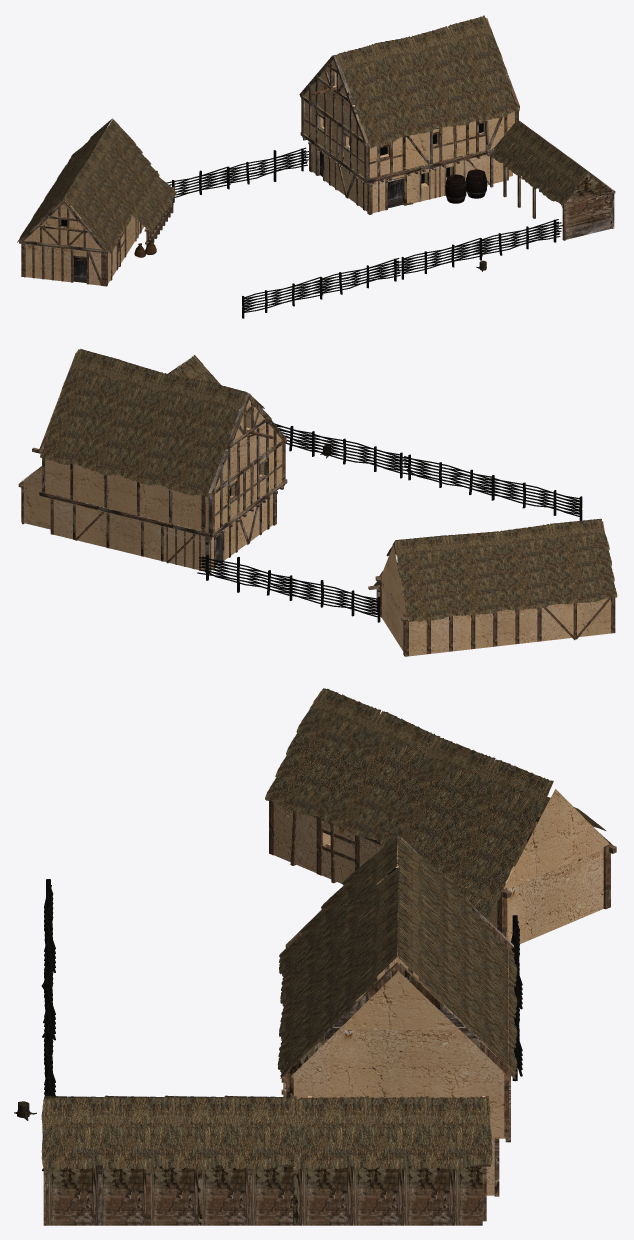
File: thatchhouses.obj
3 renders of one model, top to bottom at view 1: azimuth 30°, elevation 25°; view 2: azimuth 150°, elevation 25°; view 3: azimuth 270°, elevation 25°, orthographic. The views are drawn at different scales.
Visible parts, largest first — view 1: Rectangle016, Box002, Rectangle017, Box224, Box085, Object037, Object008, Object005, Object006, Object007, Box100, Cylinder109 (+2 smaller); view 2: Rectangle016, Rectangle017, Box002, Box224, Box038, Box199, Object007, Box003; view 3: Rectangle017, Rectangle016, Box087, Box002, Box224, Object020, Object032, Object030, Object018, Object017, Object029, Object019 (+3 smaller).
Part boxes in pixels (box(x1,y1,x2,y2)): Rectangle016: box(336, 15, 519, 148); Box002: box(304, 60, 514, 212); Rectangle017: box(17, 118, 159, 253); Box224: box(25, 127, 143, 285); Box085: box(566, 173, 612, 239); Object037: box(132, 177, 175, 229); Object008: box(490, 121, 534, 165); Object005: box(504, 134, 552, 178); Object006: box(521, 147, 570, 190); Object007: box(539, 159, 587, 203); Box100: box(368, 148, 495, 183); Cylinder109: box(445, 174, 466, 203); Rectangle016: box(40, 348, 271, 497); Rectangle017: box(379, 518, 617, 621); Box002: box(45, 400, 282, 569); Box224: box(381, 545, 613, 656); Box038: box(23, 467, 50, 529); Box199: box(39, 490, 209, 537); Object007: box(175, 355, 220, 384); Box003: box(208, 394, 249, 494); Rectangle017: box(265, 688, 612, 896); Rectangle016: box(277, 837, 517, 1079); Box087: box(48, 1166, 482, 1225); Box002: box(291, 845, 504, 1195); Box224: box(274, 789, 608, 943); Object020: box(41, 1096, 120, 1167); Object032: box(294, 1096, 372, 1167); Object030: box(414, 1096, 492, 1167); Object018: box(162, 1096, 240, 1167); Object017: box(102, 1096, 180, 1167); Object029: box(354, 1096, 432, 1167); Object019: box(222, 1096, 300, 1167).
Size of the model in its own units: 558 by 157 by 338.
12 materials, 11 textured.
